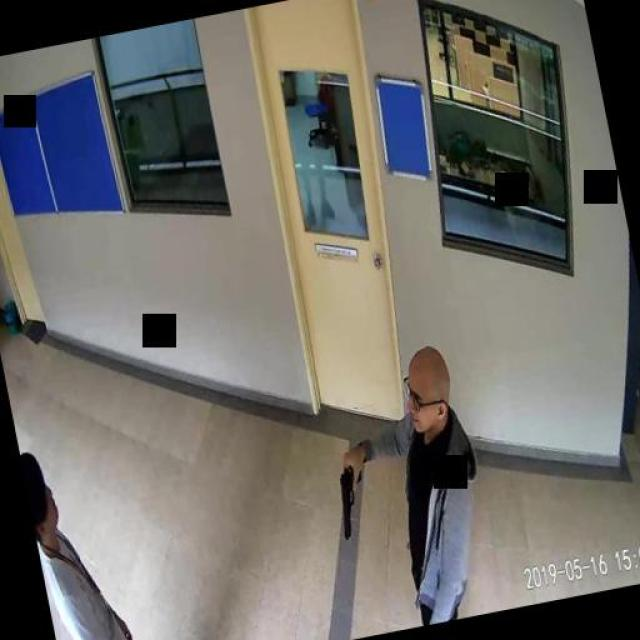gun: (329, 459, 371, 539)
